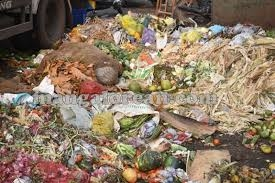kitchen_waste: (30, 158, 91, 183), (1, 148, 43, 183), (115, 12, 149, 41), (90, 111, 120, 140), (248, 111, 275, 141), (92, 65, 126, 88), (134, 147, 165, 172), (120, 114, 153, 133), (121, 165, 139, 183), (126, 79, 144, 94), (158, 77, 175, 92), (258, 142, 273, 155), (146, 84, 159, 94), (210, 137, 223, 147)
plastic: (1, 91, 34, 106)
